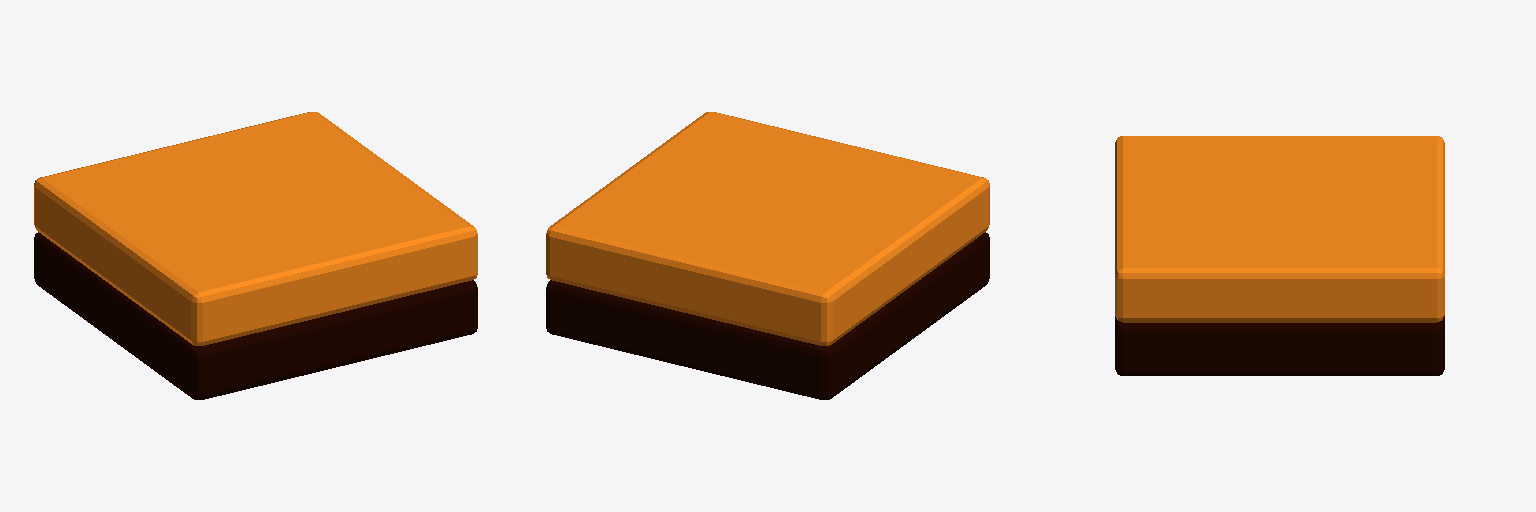
The model's file is ground_sand_001.obj.
The picture shows the model from 3 angles: view 1: azimuth 30°, elevation 25°; view 2: azimuth 150°, elevation 25°; view 3: azimuth 270°, elevation 25°; orthographic projection.
Parts seen in each view (by area): view 1: ground_sand.001; view 2: ground_sand.001; view 3: ground_sand.001.
Boxes of the visible parts, x1,y1,x2,y2 form: ground_sand.001: [34, 112, 477, 399]; ground_sand.001: [546, 112, 989, 399]; ground_sand.001: [1115, 136, 1444, 375].
Size of the model in its own units: 8 by 2.89 by 8.